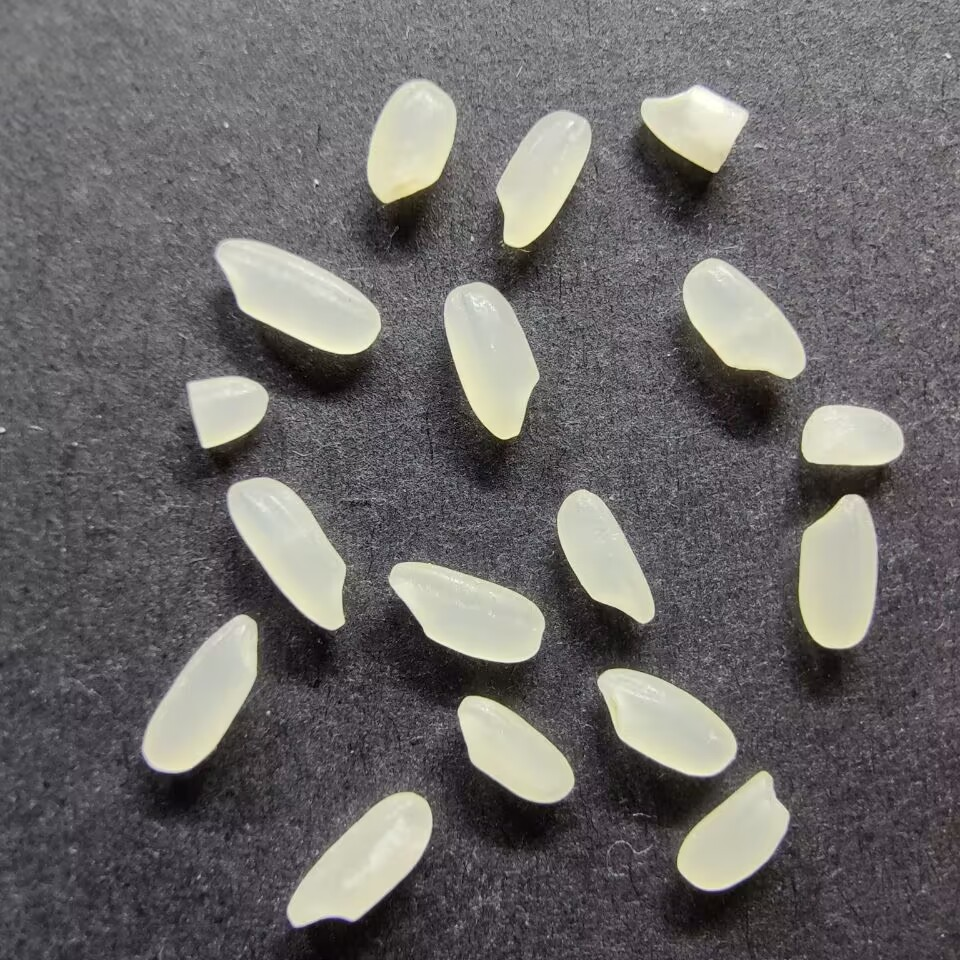broken: (640, 83, 750, 174), (799, 404, 903, 467), (184, 375, 270, 449)
rice: (283, 791, 433, 929), (212, 237, 382, 355), (139, 612, 260, 775), (226, 476, 350, 632), (388, 559, 547, 666), (595, 666, 741, 779), (441, 280, 541, 441), (681, 256, 807, 381), (555, 487, 657, 626), (675, 768, 789, 892), (494, 109, 591, 250), (456, 692, 576, 804), (796, 492, 879, 650), (365, 79, 457, 205)
